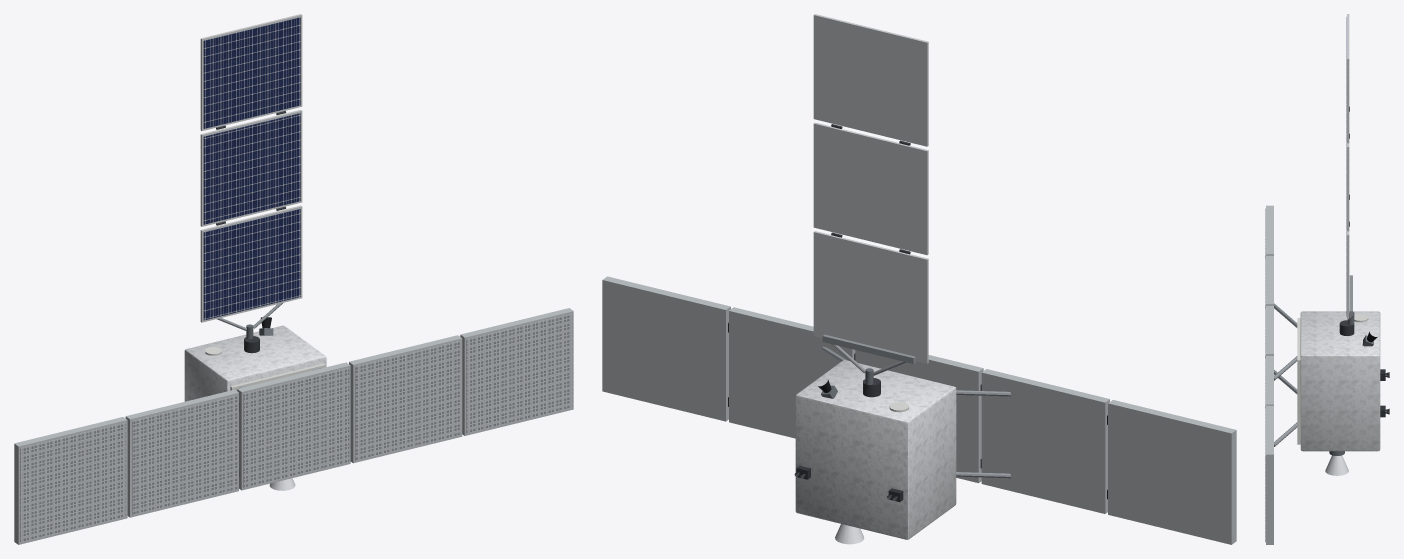
File: satellite.glb
3 renders of one model, left to right at view 1: azimuth 30°, elevation 25°; view 2: azimuth 150°, elevation 25°; view 3: azimuth 270°, elevation 25°, orthographic. The views are drawn at different scales.
Visible parts, largest first — view 1: Radar_Imaging_Satellite; view 2: Radar_Imaging_Satellite; view 3: Radar_Imaging_Satellite.
Boxes of the visible parts, left/top/right/bottom form: Radar_Imaging_Satellite: left=14, top=14, right=573, bottom=544; Radar_Imaging_Satellite: left=602, top=14, right=1236, bottom=544; Radar_Imaging_Satellite: left=1265, top=14, right=1389, bottom=544.
Size of the model in its own units: 8.86 by 7.02 by 1.87.
14 materials, 3 textured.
